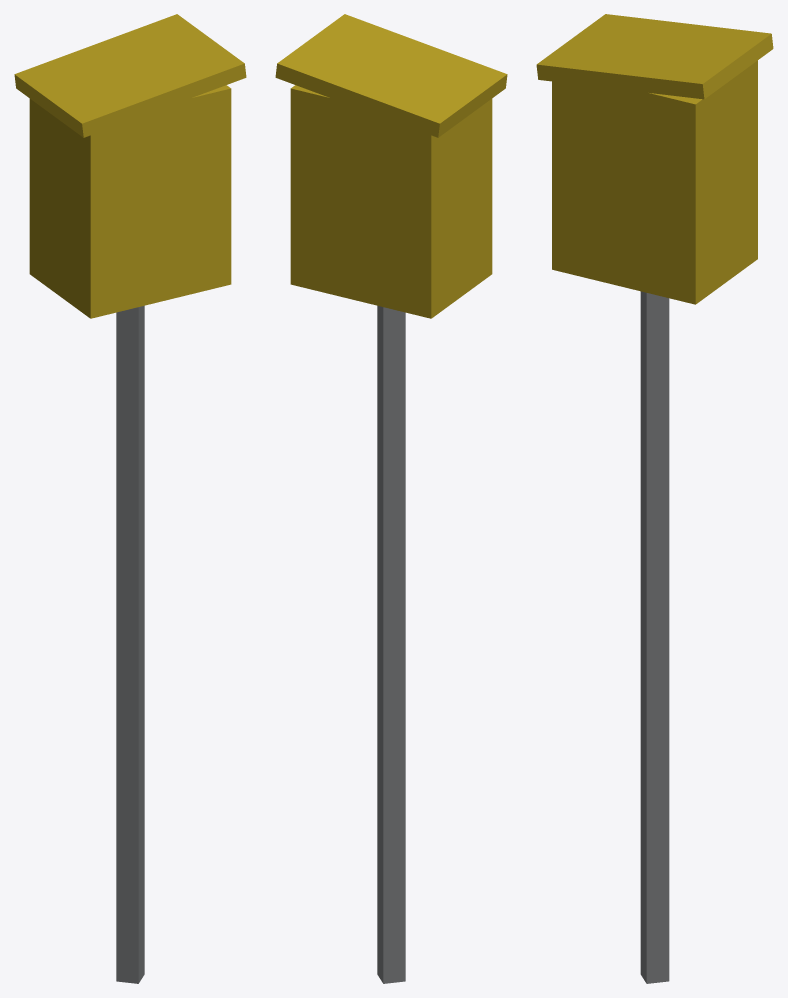
File: SM_Prop_fast_camera_0_LOD2.glb
The picture shows the model from 3 angles, left to right: view 1: azimuth 30°, elevation 25°; view 2: azimuth 150°, elevation 25°; view 3: azimuth 330°, elevation 25°; orthographic projection. The views are drawn at different scales.
Parts seen in each view (by area): view 1: SM_Prop_fast_camera_0_LOD2; view 2: SM_Prop_fast_camera_0_LOD2; view 3: SM_Prop_fast_camera_0_LOD2.
Boxes of the visible parts, x1,y1,x2,y2 form: SM_Prop_fast_camera_0_LOD2: (14, 14, 246, 983); SM_Prop_fast_camera_0_LOD2: (275, 14, 507, 983); SM_Prop_fast_camera_0_LOD2: (536, 14, 773, 983).
Bounding box in the file's own units: 0.7021 × 3.75 × 0.5.
